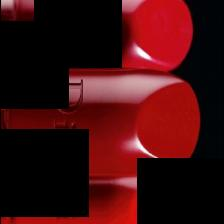red: (7, 69, 199, 176), (0, 1, 192, 71), (0, 173, 189, 224)
